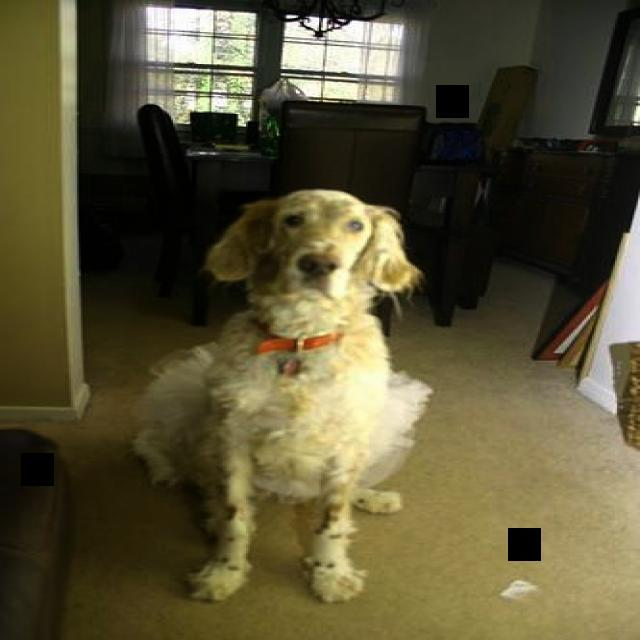adult_dog: (121, 185, 436, 610)
